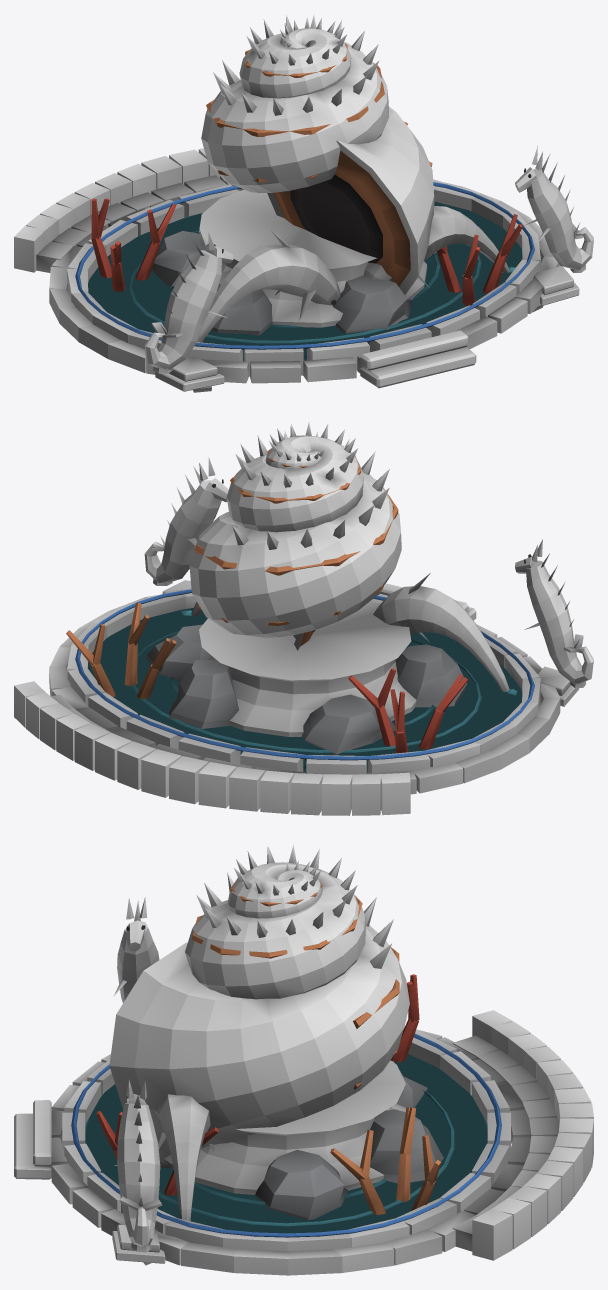
Rendered from tritons-conch-l2.glb.
3 renders of one model, top to bottom at view 1: azimuth 30°, elevation 25°; view 2: azimuth 150°, elevation 25°; view 3: azimuth 270°, elevation 25°, orthographic. The views are drawn at different scales.
Parts seen in each view (by area): view 1: tritons-conch-l2; view 2: tritons-conch-l2; view 3: tritons-conch-l2.
Boxes of the visible parts, box(x1,y1,x2,y2) form: tritons-conch-l2: box(14, 14, 593, 392); tritons-conch-l2: box(14, 422, 593, 815); tritons-conch-l2: box(14, 844, 593, 1275).
Size of the model in its own units: 1.62 by 0.9389 by 1.62.
